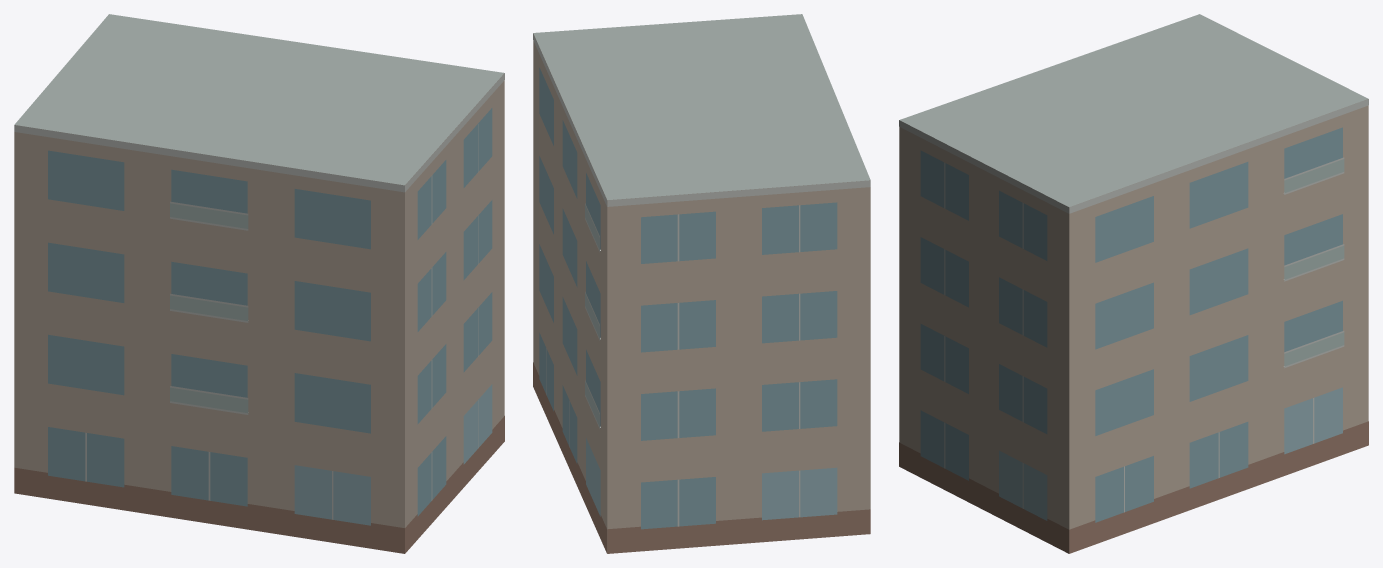
File: survey-upis-32707234.glb
3 renders of one model, left to right at view 1: azimuth 30°, elevation 25°; view 2: azimuth 150°, elevation 25°; view 3: azimuth 270°, elevation 25°, orthographic. The views are drawn at different scales.
Visible parts, largest first — view 1: survey-upis-32707234.tmp; view 2: survey-upis-32707234.tmp; view 3: survey-upis-32707234.tmp.
Part boxes in pixels (x1,y1,x2,y2): survey-upis-32707234.tmp: (14,14,504,553); survey-upis-32707234.tmp: (533,14,870,553); survey-upis-32707234.tmp: (899,14,1368,553).
Bounding box in the file's own units: 15.32 × 12.8 × 15.72.
